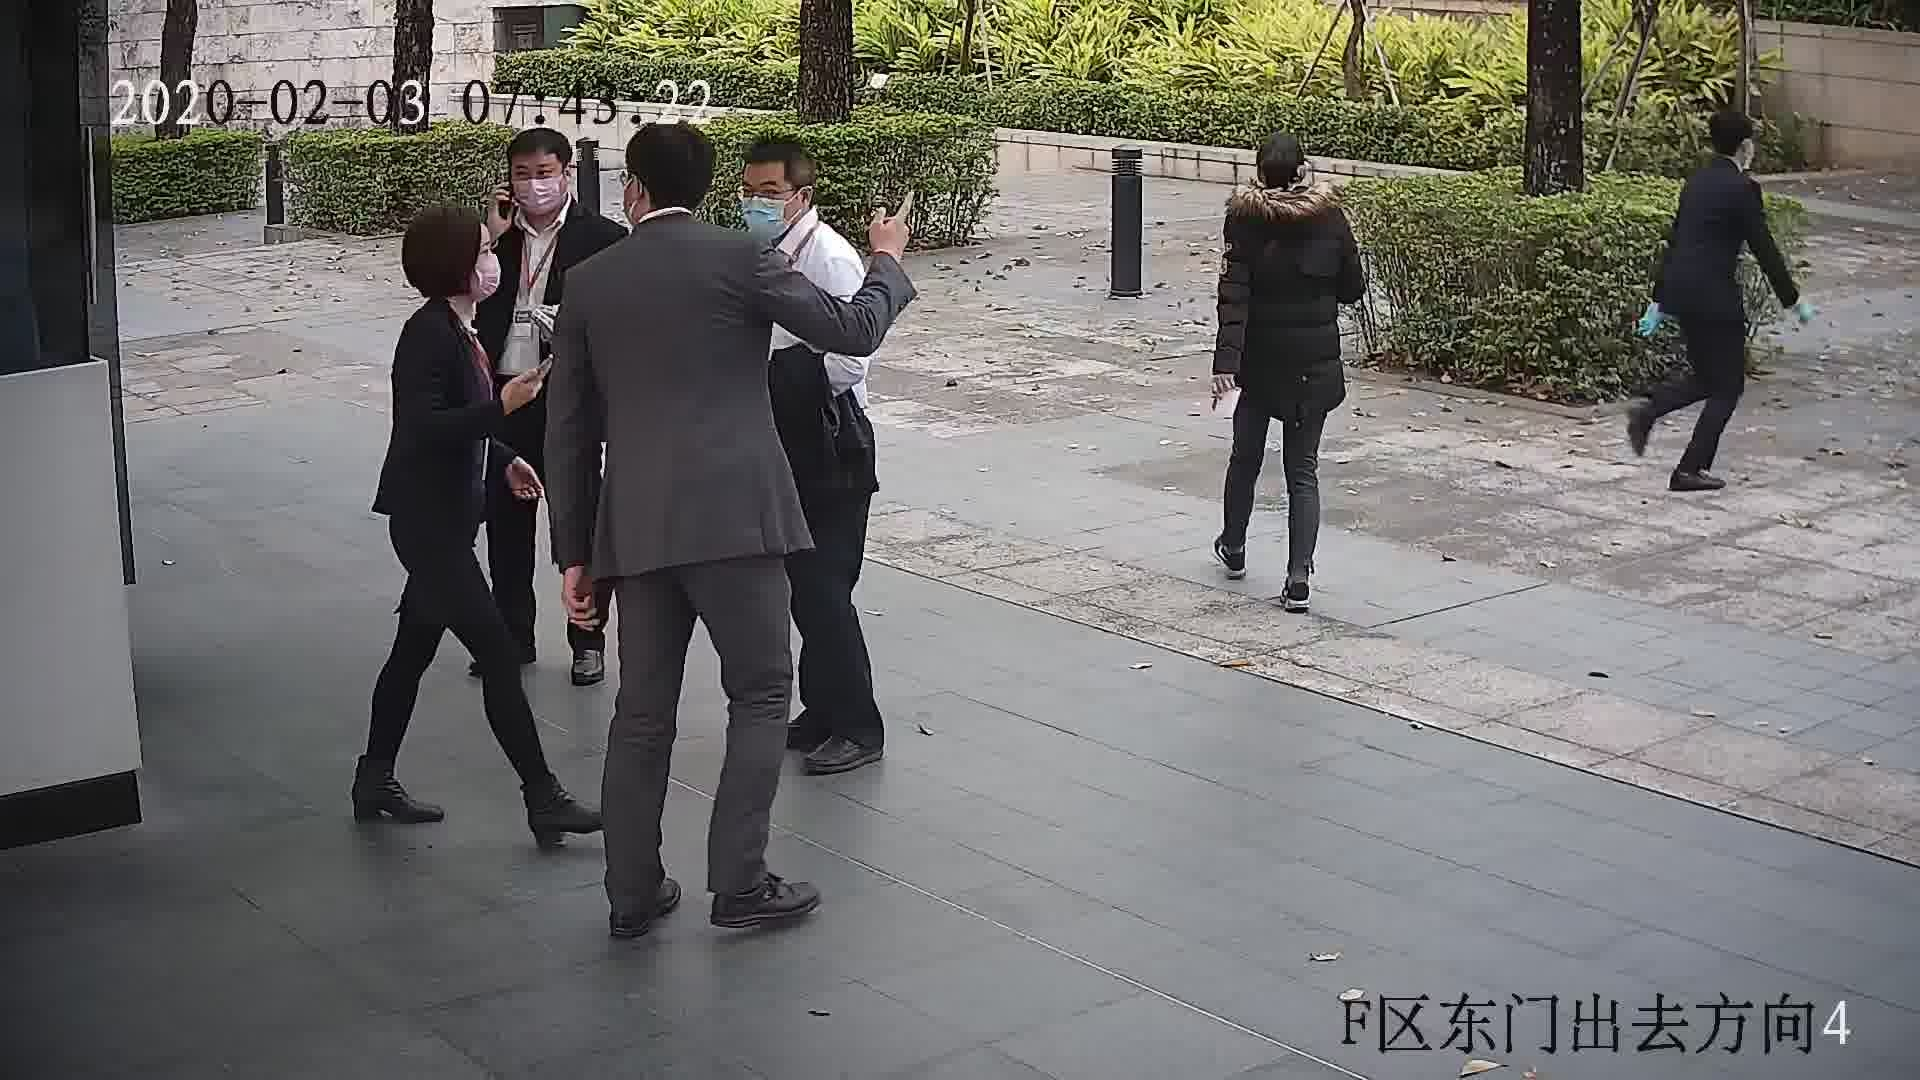face: (498, 146, 576, 223), (737, 158, 803, 243)
mask: (738, 196, 787, 239), (509, 177, 563, 213), (473, 251, 502, 302)
person: (569, 113, 786, 315), (392, 200, 511, 370), (484, 126, 624, 265), (735, 133, 867, 269), (1227, 125, 1350, 243), (1679, 106, 1765, 205)
